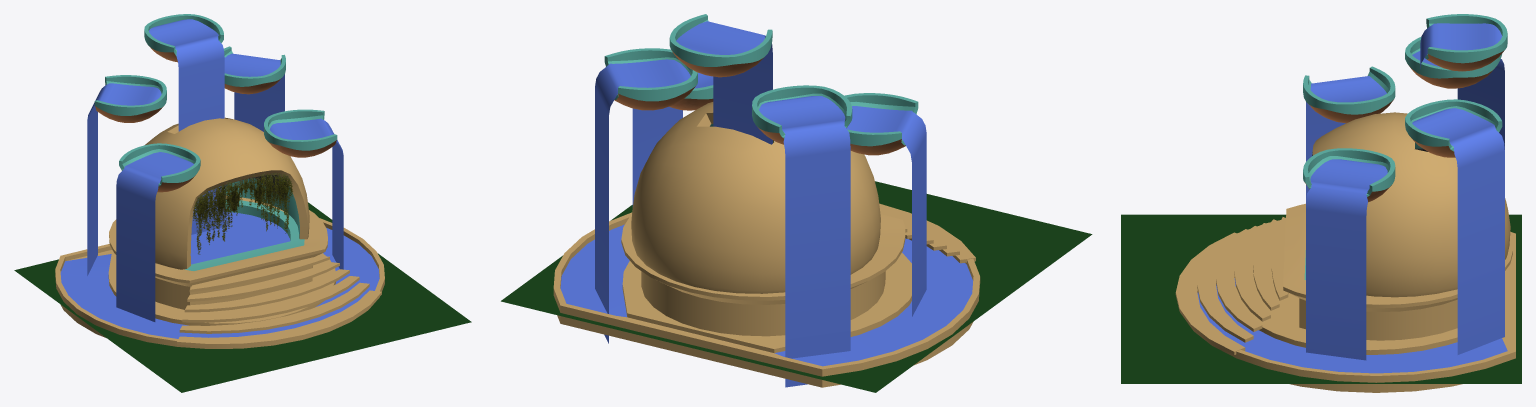
The model's file is wellness_02.glb.
3 views of the same model, side by side, from view 1: azimuth 30°, elevation 25°; view 2: azimuth 150°, elevation 25°; view 3: azimuth 270°, elevation 25° (orthographic). The views are drawn at different scales.
Parts seen in each view (by area): view 1: Roundcube.003, Plane, Cylinder, Cylinder.001, Roundcube.004, Roundcube.007, Roundcube.001, hanging_1, Roundcube.005, Roundcube.009, Roundcube.008, Roundcube.002 (+1 smaller); view 2: Roundcube.003, Roundcube.004, Cylinder, Plane, Roundcube.007, Roundcube.001, Roundcube.006, Roundcube.002, Roundcube.008, Roundcube.009, Cylinder.001, Roundcube.005; view 3: Roundcube.003, Plane, Roundcube.004, Cylinder, Cylinder.001, Roundcube.007, Roundcube.002, Roundcube.008, Roundcube.006, Roundcube.001, Roundcube.005, Roundcube.009.
Boxes of the visible parts, x1=… form: Roundcube.003: x1=87, y1=53, x2=343, y2=321; Plane: x1=14, y1=202, x2=471, y2=392; Cylinder: x1=55, y1=218, x2=384, y2=348; Cylinder.001: x1=177, y1=255, x2=381, y2=346; Roundcube.004: x1=145, y1=117, x2=309, y2=269; Roundcube.007: x1=109, y1=195, x2=327, y2=309; Roundcube.001: x1=149, y1=19, x2=224, y2=234; hanging_1: x1=192, y1=172, x2=293, y2=254; Roundcube.005: x1=264, y1=109, x2=337, y2=157; Roundcube.009: x1=94, y1=75, x2=166, y2=122; Roundcube.008: x1=119, y1=143, x2=200, y2=192; Roundcube.002: x1=144, y1=14, x2=223, y2=62; Roundcube.003: x1=595, y1=59, x2=926, y2=387; Roundcube.004: x1=631, y1=102, x2=880, y2=293; Cylinder: x1=553, y1=212, x2=980, y2=387; Plane: x1=501, y1=181, x2=1092, y2=392; Roundcube.007: x1=621, y1=214, x2=905, y2=336; Roundcube.001: x1=676, y1=21, x2=772, y2=144; Roundcube.006: x1=604, y1=48, x2=697, y2=110; Roundcube.002: x1=669, y1=14, x2=772, y2=77; Roundcube.008: x1=844, y1=93, x2=918, y2=155; Roundcube.009: x1=752, y1=85, x2=852, y2=144; Cylinder.001: x1=879, y1=203, x2=975, y2=263; Roundcube.005: x1=669, y1=85, x2=713, y2=110; Roundcube.003: x1=1306, y1=51, x2=1504, y2=360; Plane: x1=1121, y1=214, x2=1521, y2=383; Roundcube.004: x1=1312, y1=112, x2=1510, y2=297; Cylinder: x1=1191, y1=220, x2=1515, y2=392; Cylinder.001: x1=1175, y1=217, x2=1288, y2=354; Roundcube.007: x1=1283, y1=203, x2=1512, y2=340; Roundcube.002: x1=1425, y1=14, x2=1507, y2=71; Roundcube.008: x1=1303, y1=66, x2=1395, y2=123; Roundcube.006: x1=1405, y1=99, x2=1502, y2=157; Roundcube.001: x1=1420, y1=23, x2=1502, y2=68; Roundcube.005: x1=1303, y1=148, x2=1395, y2=202; Roundcube.009: x1=1405, y1=37, x2=1502, y2=88.
Size of what is drawn, in the model's own units: 15.5 by 12.54 by 15.5.
7 materials, 3 textured.
